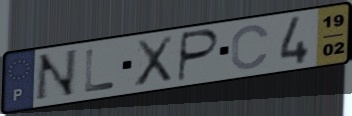4: (278, 13, 311, 67)
C: (229, 23, 272, 72)
L: (83, 47, 117, 95)
N: (32, 47, 80, 104)
P: (175, 27, 222, 84)
X: (133, 33, 176, 89)
